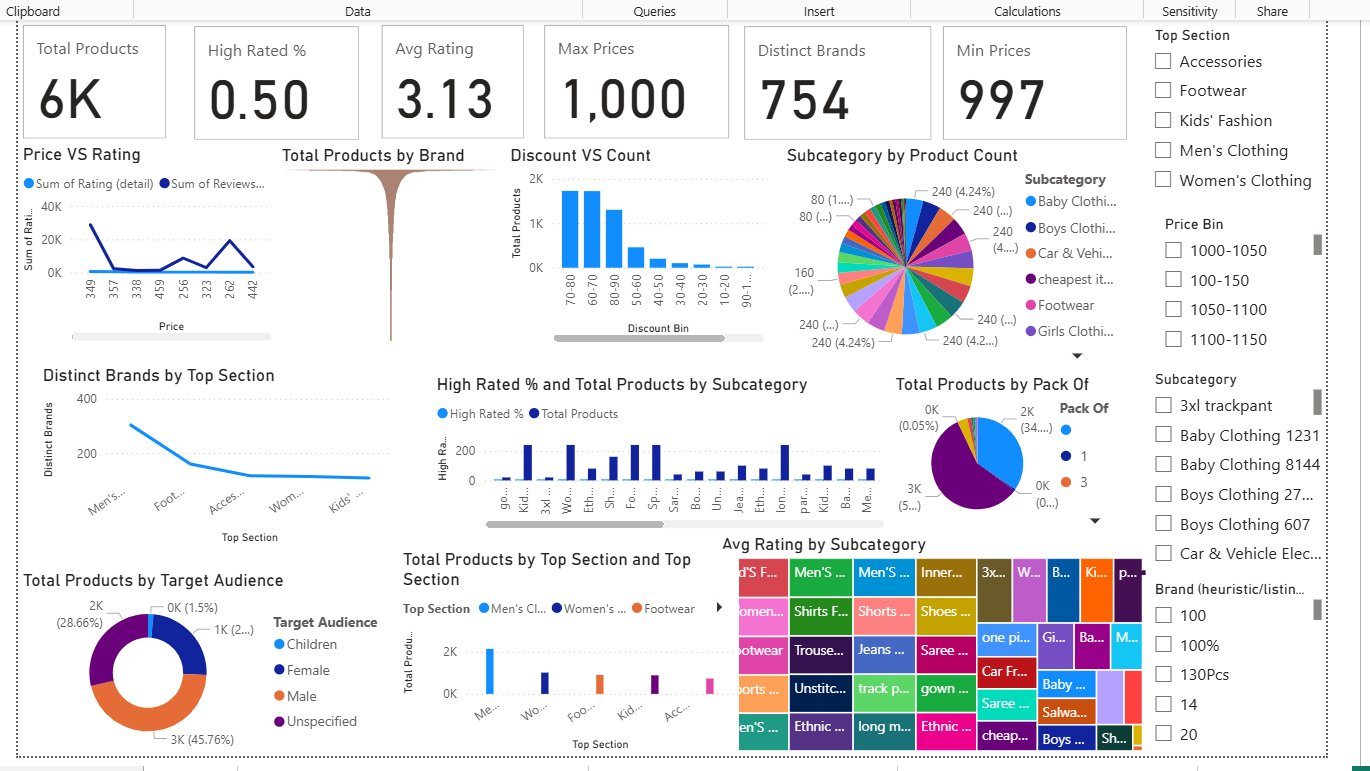

Layout of this report page (visuals, bound fields, positions):
{"tool":"powerbi","page":{"name":"Page 1","canvas":[1280,720],"ordinal":0},"visuals":[{"type":"cardVisual","box":[10,0,280,280],"z":0},{"type":"clusteredColumnChart","title":"Discount VS Count","fields":{"Category":["snapdeal_products.Discount Bin"],"Y":["snapdeal_products.Total Products"]},"box":[476.9,122.3,258,198.1],"z":1000},{"type":"lineChart","title":"Price VS Rating","fields":{"Category":["snapdeal_products.Price"],"Y":["Sum(snapdeal_products.Rating (detail))","Sum(snapdeal_products.Reviews Count (listing))"]},"box":[0,121.1,253.1,198.1],"z":2000},{"type":"pieChart","title":"Subcategory by Product Count","fields":{"Category":["snapdeal_products.Subcategory"],"Y":["snapdeal_products.Total Products"]},"box":[747.2,122.3,343.6,218.9],"z":3000},{"type":"treemap","fields":{"Group":["snapdeal_products.Subcategory"],"Values":["snapdeal_products.Avg Rating"]},"box":[683.6,502.6,425.5,217.7],"z":4000},{"type":"clusteredColumnChart","fields":{"Category":["snapdeal_products.Subcategory"],"Y":["snapdeal_products.High Rated %","snapdeal_products.Total Products"]},"box":[404.8,346.1,447.6,156.5],"z":5000},{"type":"slicer","fields":{"Values":["snapdeal_products.Top Section"]},"box":[1099.3,1.2,181,184.6],"z":6000},{"type":"slicer","fields":{"Values":["snapdeal_products.Subcategory"]},"box":[1099.3,337.5,181,200.5],"z":7000},{"type":"slicer","fields":{"Values":["snapdeal_products.Brand (heuristic/listing)"]},"box":[1099.3,542.9,181,177.3],"z":8000},{"type":"cardVisual","fields":{"Data":["snapdeal_products.Total Products"]},"box":[0,0,150.4,121.1],"z":9000},{"type":"cardVisual","fields":{"Data":["snapdeal_products.Max Prices"]},"box":[509.9,0,192,121.1],"z":10000},{"type":"cardVisual","fields":{"Data":["snapdeal_products.Min Prices"]},"box":[900,1.2,190.8,121.1],"z":11000},{"type":"cardVisual","fields":{"Data":["snapdeal_products.High Rated %"]},"box":[167.5,1.2,171.2,121.1],"z":12000},{"type":"cardVisual","fields":{"Data":["snapdeal_products.Avg Rating"]},"box":[351,0,149.2,121.1],"z":13000},{"type":"cardVisual","fields":{"Data":["snapdeal_products.Distinct Brands"]},"box":[705.6,1.2,193.2,121.1],"z":14000},{"type":"donutChart","fields":{"Series":["snapdeal_products.Target Audience"],"Y":["snapdeal_products.Total Products"]},"box":[0,538,371.7,182.2],"z":15000},{"type":"clusteredColumnChart","fields":{"Category":["snapdeal_products.Top Section"],"Series":["snapdeal_products.Top Section"],"Y":["snapdeal_products.Total Products"]},"box":[371.7,517.3,333.8,203],"z":16000},{"type":"pieChart","fields":{"Series":["snapdeal_products.Pack Of"],"Y":["snapdeal_products.Total Products"]},"box":[853.5,346.1,237.2,156.5],"z":17000},{"type":"lineChart","fields":{"Category":["snapdeal_products.Top Section"],"Y":["snapdeal_products.Distinct Brands"]},"box":[19.6,337.5,352.2,179.8],"z":18000},{"type":"slicer","fields":{"Values":["snapdeal_products.Price Bin"]},"box":[1109.1,185.9,171.2,145.5],"z":19000},{"type":"funnel","title":"Total Products by Brand","fields":{"Category":["snapdeal_products.Brand (heuristic/listing)"],"Y":["snapdeal_products.Total Products"]},"box":[253.1,122.3,223.8,196.9],"z":20000}]}

Visuals, with their boxes on the page's 1280x720 design canvas (x1, y1, x2, y2). These are canvas units, not pixel positions in the 1370x771 screenshot, which may show the page scaled, cropped or inside an application window:
cardVisual: pyautogui.locateOnScreen(10, 0, 290, 280)
"Discount VS Count" clusteredColumnChart: pyautogui.locateOnScreen(477, 122, 735, 320)
"Price VS Rating" lineChart: pyautogui.locateOnScreen(0, 121, 253, 319)
"Subcategory by Product Count" pieChart: pyautogui.locateOnScreen(747, 122, 1091, 341)
treemap - snapdeal_products.Subcategory x snapdeal_products.Avg Rating: pyautogui.locateOnScreen(684, 503, 1109, 720)
clusteredColumnChart - snapdeal_products.Subcategory x snapdeal_products.High Rated %: pyautogui.locateOnScreen(405, 346, 852, 503)
slicer - snapdeal_products.Top Section: pyautogui.locateOnScreen(1099, 1, 1280, 186)
slicer - snapdeal_products.Subcategory: pyautogui.locateOnScreen(1099, 338, 1280, 538)
slicer - snapdeal_products.Brand (heuristic/listing): pyautogui.locateOnScreen(1099, 543, 1280, 720)
cardVisual - snapdeal_products.Total Products: pyautogui.locateOnScreen(0, 0, 150, 121)
cardVisual - snapdeal_products.Max Prices: pyautogui.locateOnScreen(510, 0, 702, 121)
cardVisual - snapdeal_products.Min Prices: pyautogui.locateOnScreen(900, 1, 1091, 122)
cardVisual - snapdeal_products.High Rated %: pyautogui.locateOnScreen(168, 1, 339, 122)
cardVisual - snapdeal_products.Avg Rating: pyautogui.locateOnScreen(351, 0, 500, 121)
cardVisual - snapdeal_products.Distinct Brands: pyautogui.locateOnScreen(706, 1, 899, 122)
donutChart - snapdeal_products.Target Audience x snapdeal_products.Total Products: pyautogui.locateOnScreen(0, 538, 372, 720)
clusteredColumnChart - snapdeal_products.Top Section x snapdeal_products.Top Section: pyautogui.locateOnScreen(372, 517, 706, 720)
pieChart - snapdeal_products.Pack Of x snapdeal_products.Total Products: pyautogui.locateOnScreen(854, 346, 1091, 503)
lineChart - snapdeal_products.Top Section x snapdeal_products.Distinct Brands: pyautogui.locateOnScreen(20, 338, 372, 517)
slicer - snapdeal_products.Price Bin: pyautogui.locateOnScreen(1109, 186, 1280, 331)
"Total Products by Brand" funnel: pyautogui.locateOnScreen(253, 122, 477, 319)
